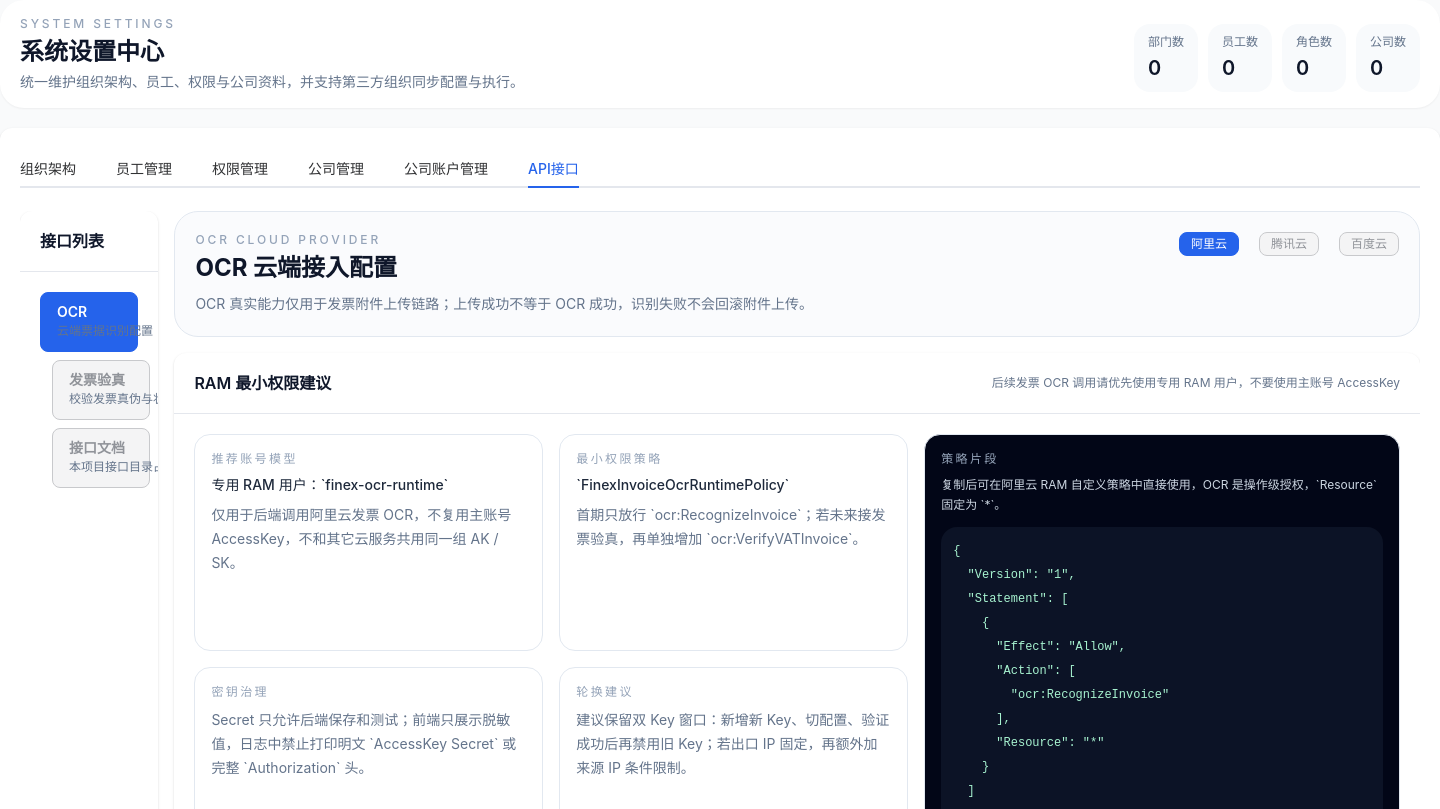
it: SystemSettingsView › switches api interface placeholder panels without firing extra requests
Click the button with test id "api-interface-nav-apiDocs".
click(101, 458)  # box [52,428,150,488]
(page scrolled)
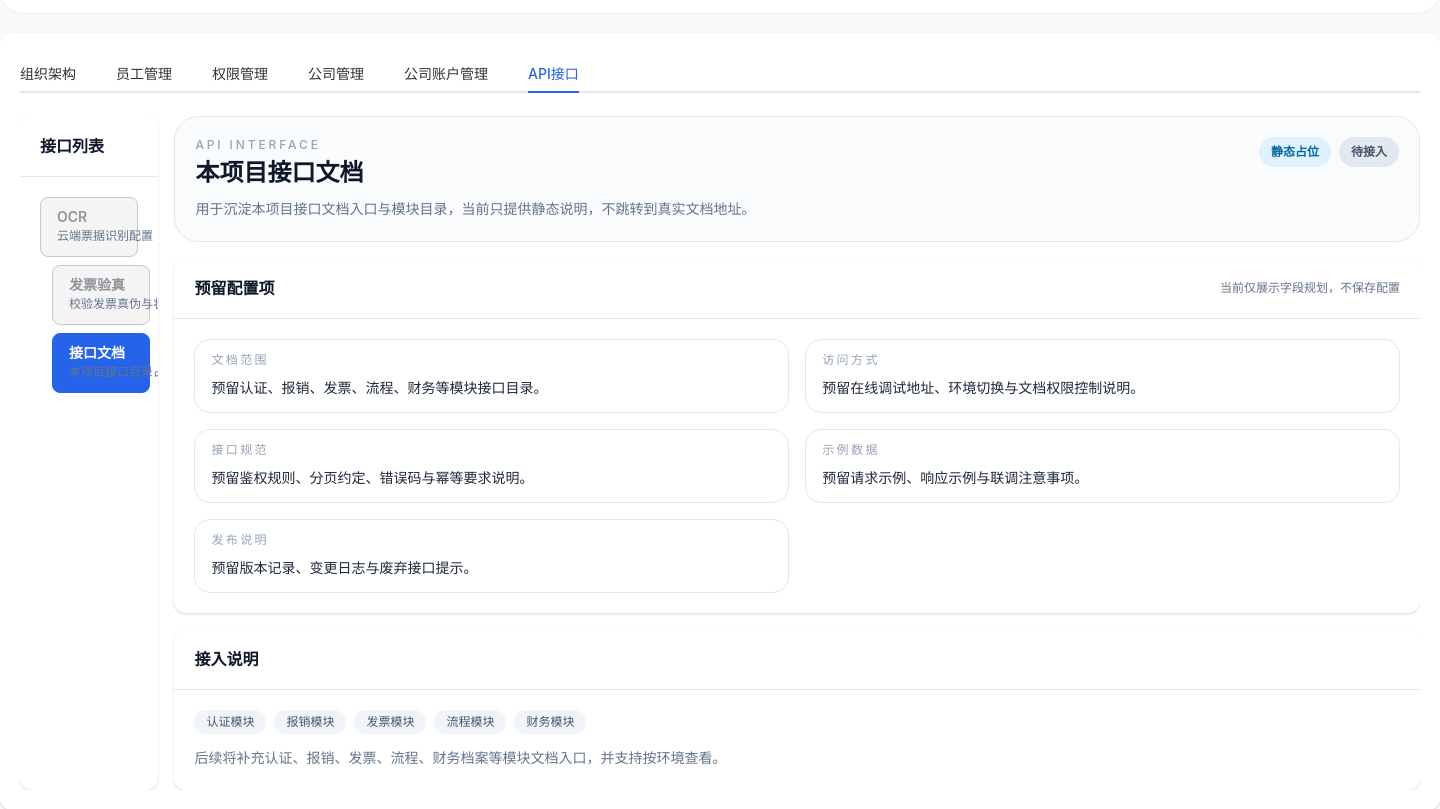
Expected: the heading with test id "api-interface-title" reads "本项目接口文档", [195,158,363,187]
Expected: the text with test id "api-interface-note" shows "认证、报销、发票", [194,749,726,766]
